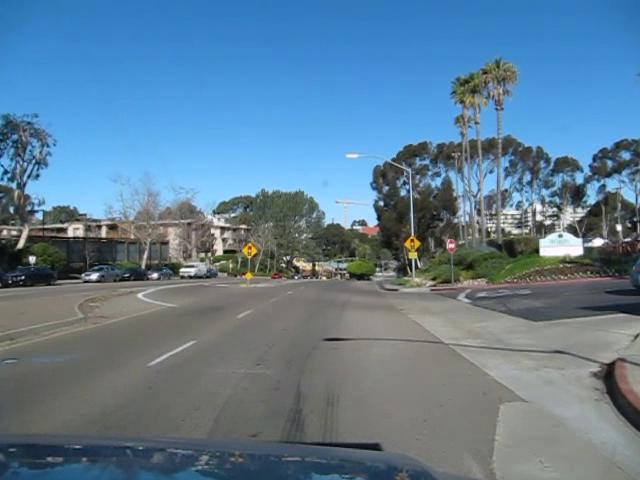signalAhead: (403, 234, 421, 252), (244, 242, 256, 257)
